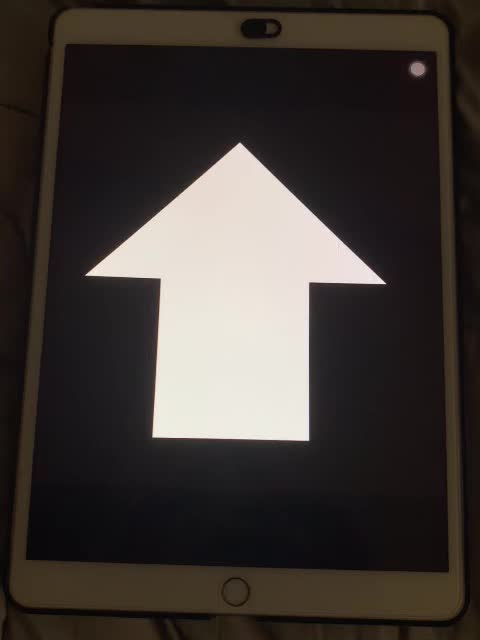up: (80, 136, 387, 443)
